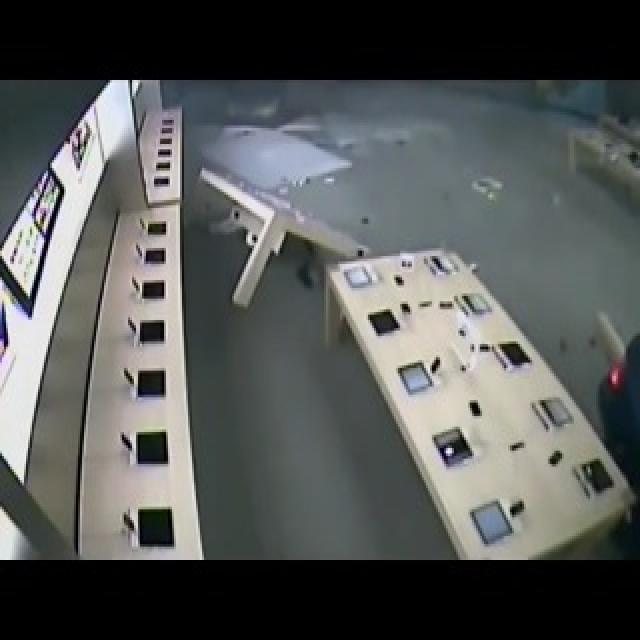burglary: (590, 326, 640, 479)
